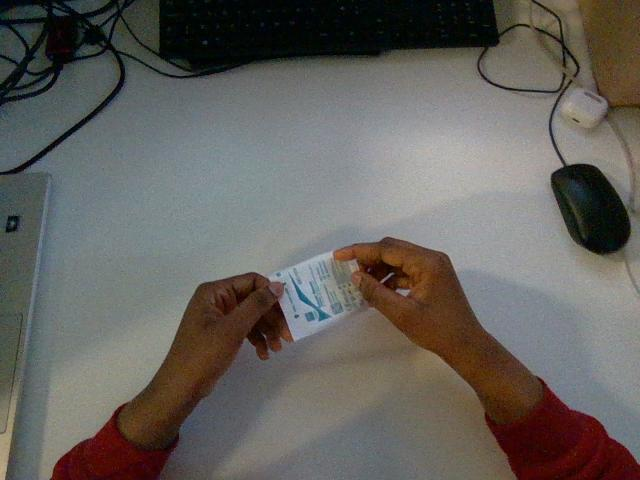gauze: (269, 252, 366, 339)
